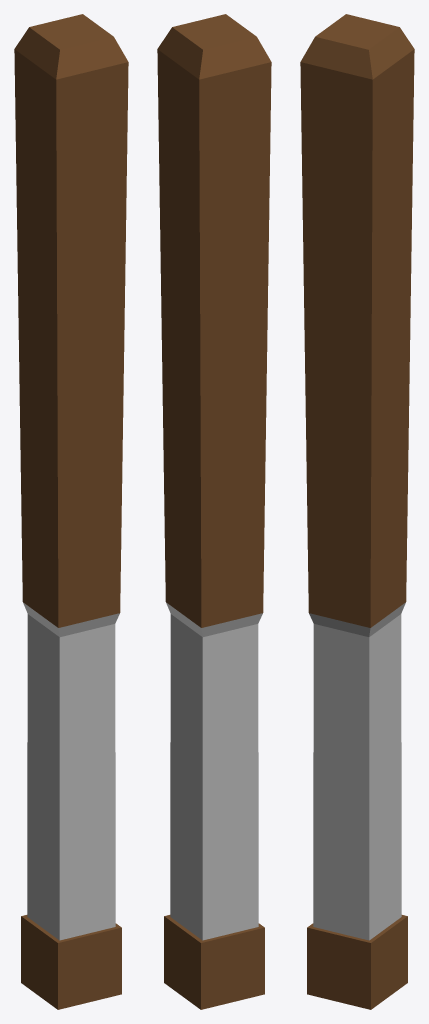
File: Bat.fbx
3 views of the same model, side by side, from view 1: azimuth 30°, elevation 25°; view 2: azimuth 210°, elevation 25°; view 3: azimuth 330°, elevation 25° (orthographic).
Parts seen in each view (by area): view 1: Bat; view 2: Bat; view 3: Bat.
Boxes of the visible parts, left/top/right/bottom form: Bat: left=14, top=14, right=128, bottom=1009; Bat: left=157, top=14, right=271, bottom=1009; Bat: left=300, top=14, right=414, bottom=1009.
Bounding box in the file's own units: 0.0744 × 0.9397 × 0.0744.
